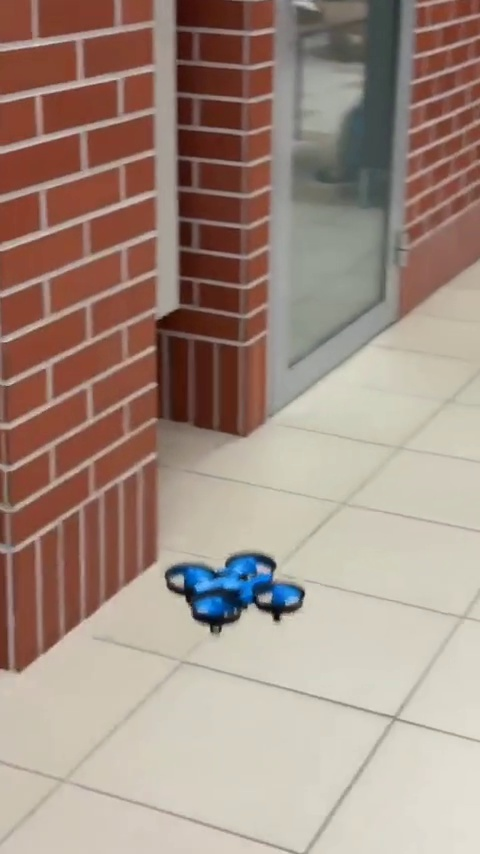drone: (164, 554, 303, 631)
